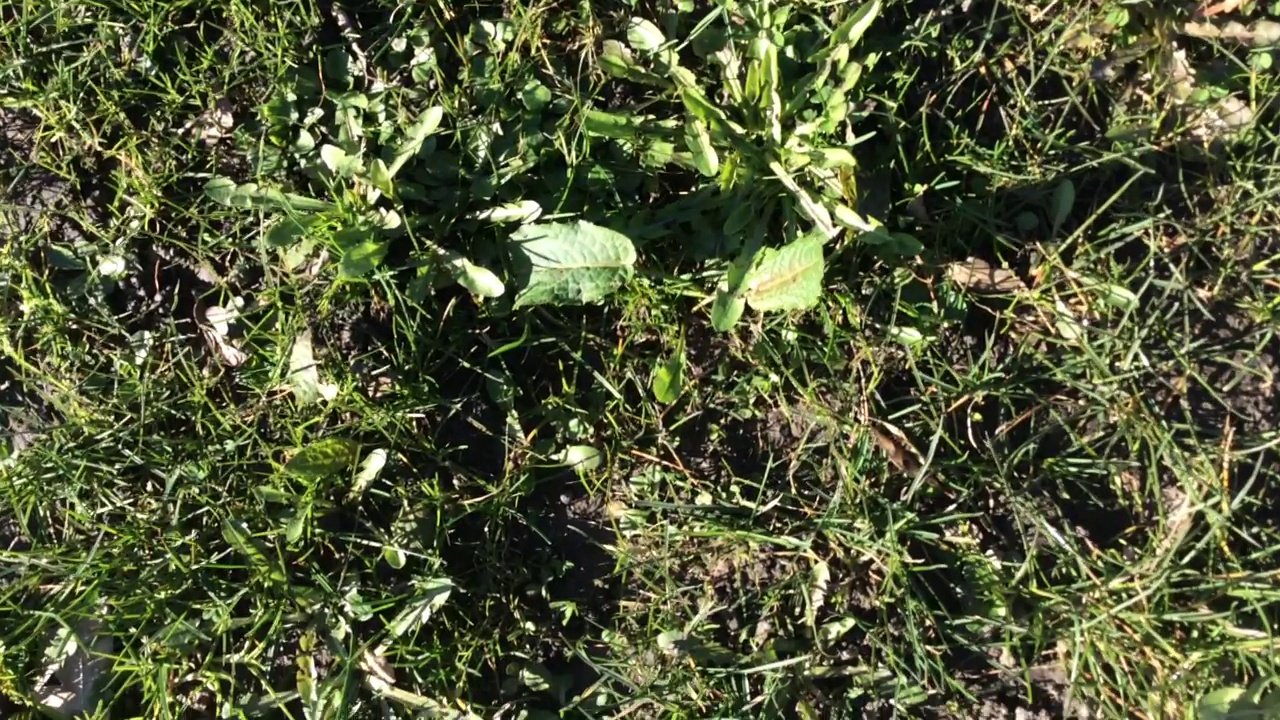rumex: (495, 221, 637, 305), (716, 235, 826, 312)
